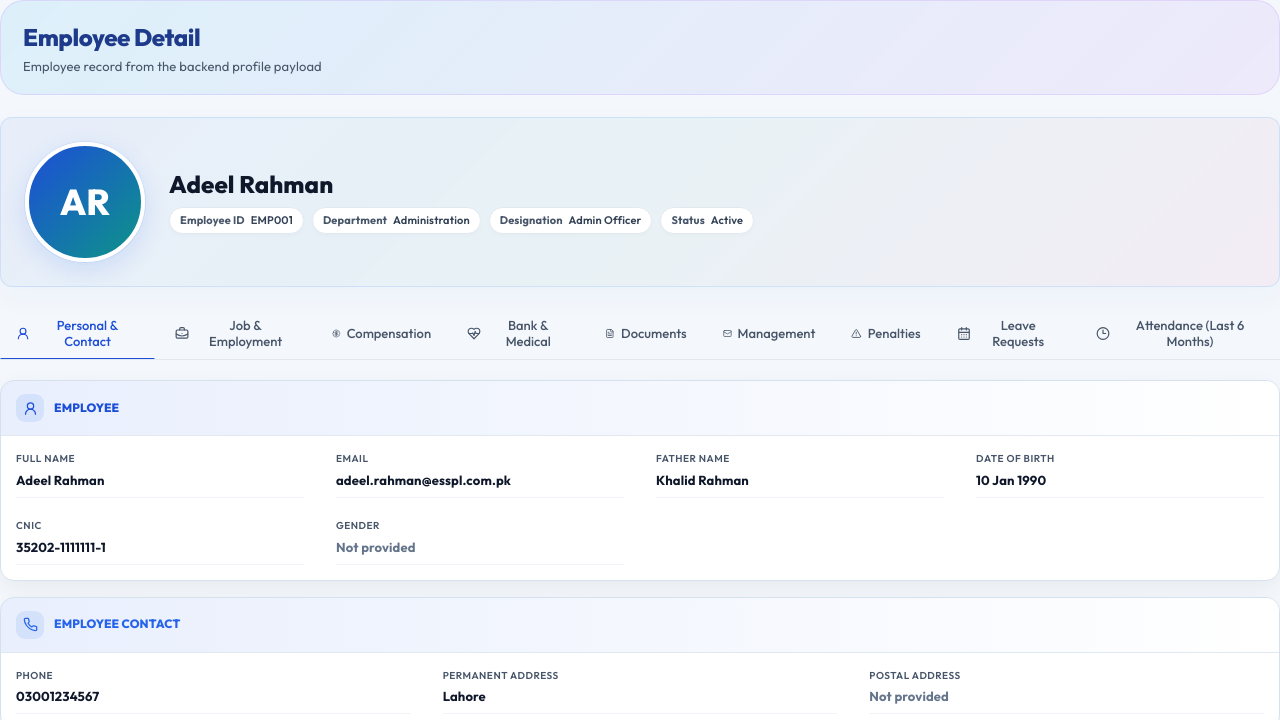
it: EmployeeDetail › shows real leave balances, leave requests, and penalties by employee id
Step 1. Click the button "Leave Requests" → (1008, 333), box [940,307,1076,359]
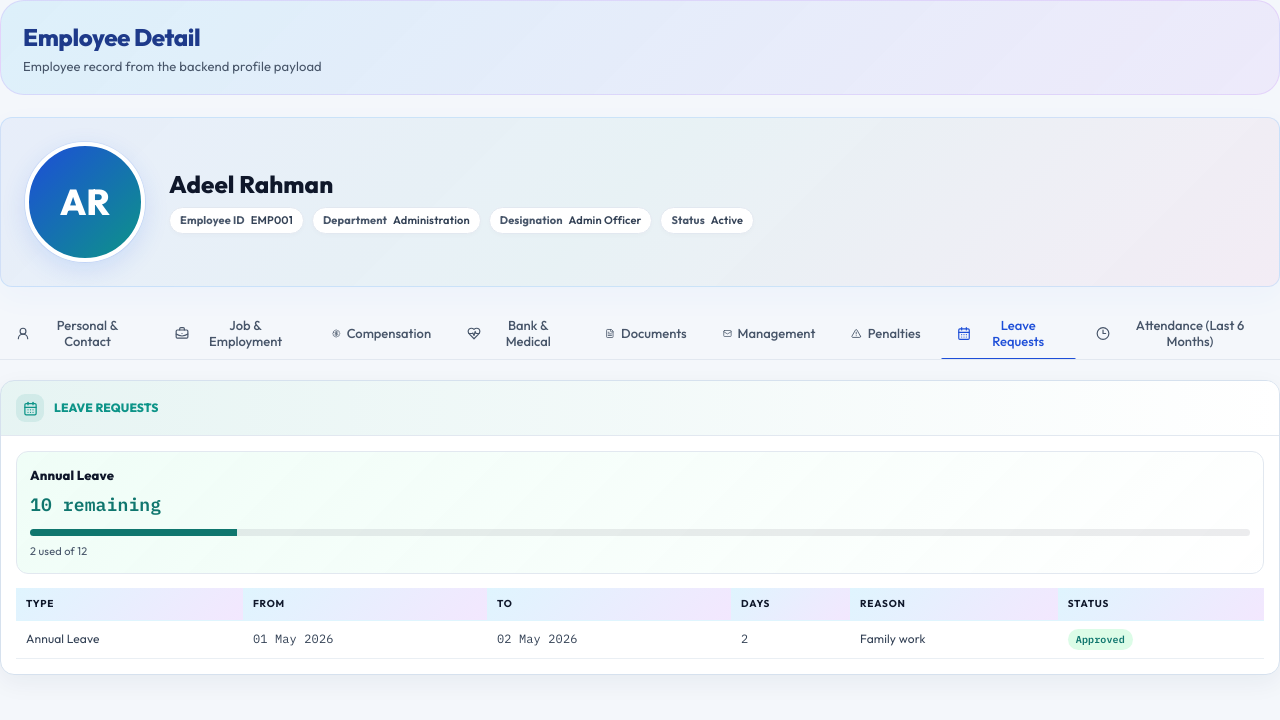
Result: the text "Annual Leave" is shown at [30,467,114,483]
Result: the text "10 remaining" is shown at [30,494,161,516]
Step 2. Click the button "Penalties" → (886, 333), box [835,307,936,359]
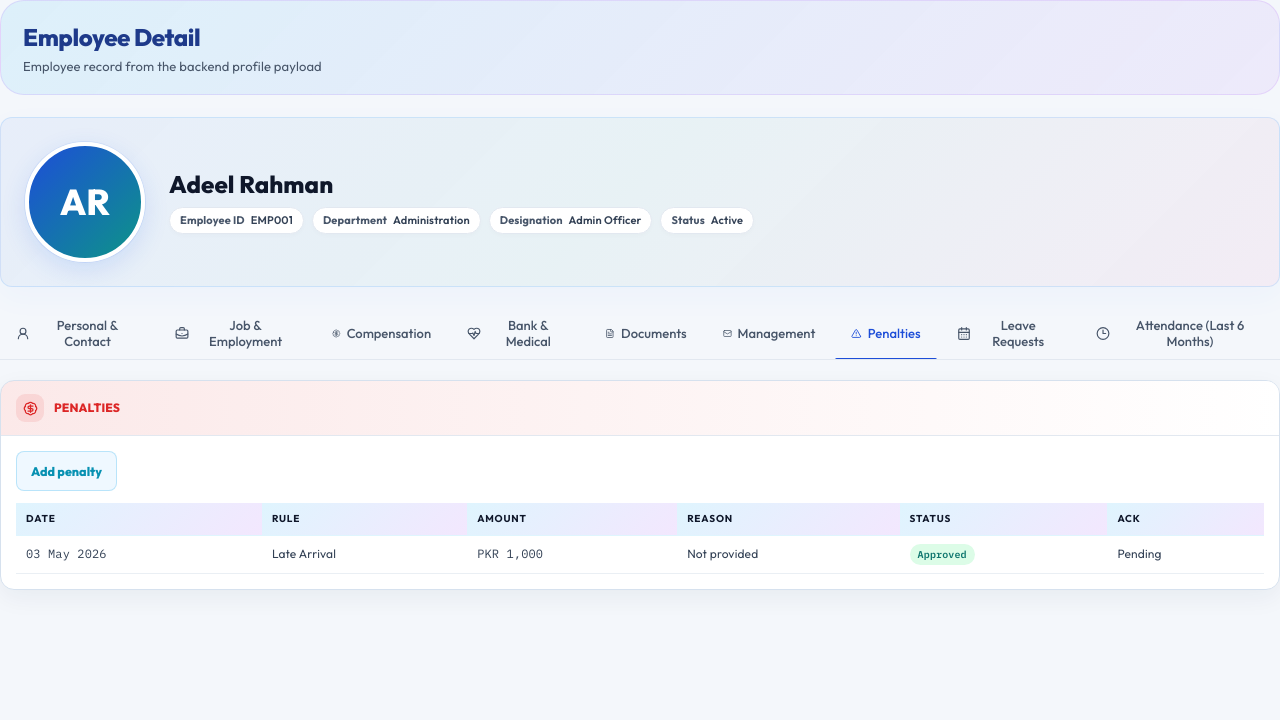
Result: the text "Late Arrival" is shown at [262,535,467,574]
Step 3. Click the button "Documents" → (646, 333), box [589,307,703,359]
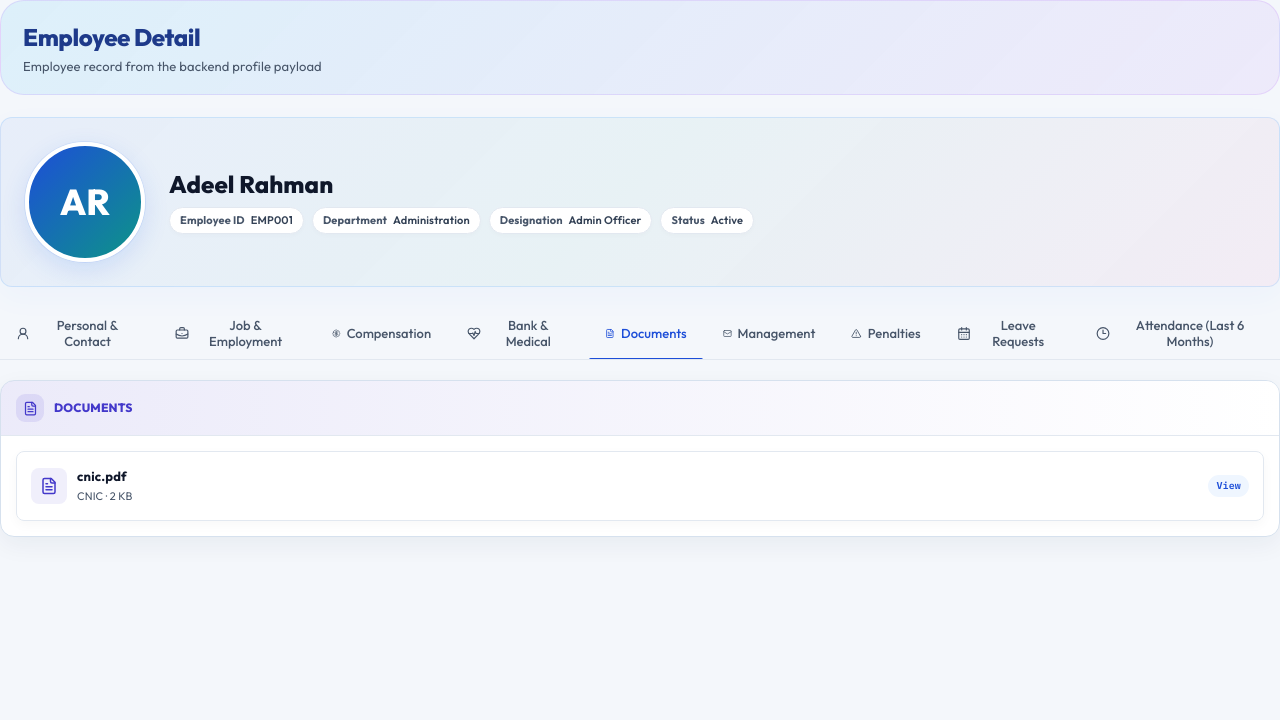
Result: the text "cnic.pdf" is shown at [77,466,132,486]
